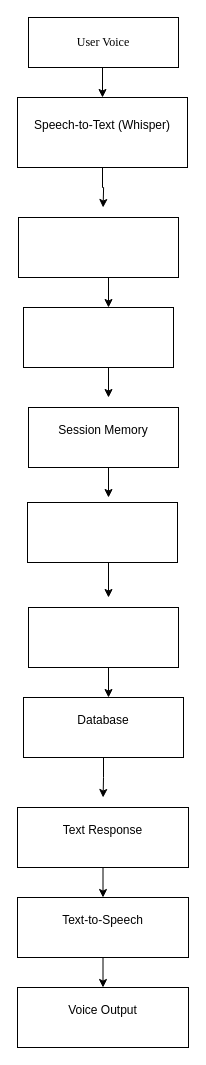
This 206x1065 diagram has some shape labels left out. Here are the shapes that lost their labels. From the top down, the centre of each, then its label:
At pixel 98 247: "Language Detection".
At pixel 98 337: "AI Agent (Intent Detection)".
At pixel 102 532: "Tool Orchestration".
At pixel 103 637: "Appointment Scheduler".
